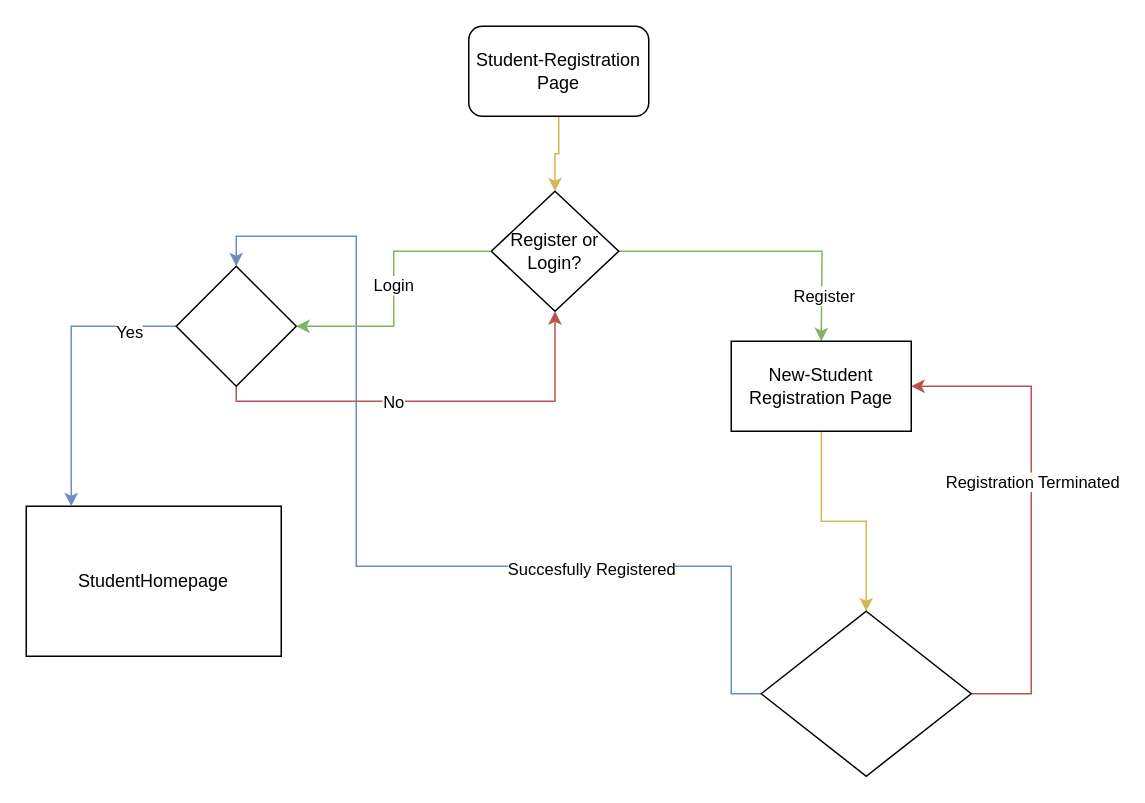
The diagram is 1145 pixels wide and 803 high, and some of its shapes have lost their labels. The shapes that lost their labels are listed below. From the top down, each one's centre as x and y in pixels, then its label:
At (x=235, y=325): "Login?".
At (x=865, y=693): "Registration Accepted By respective School?".
